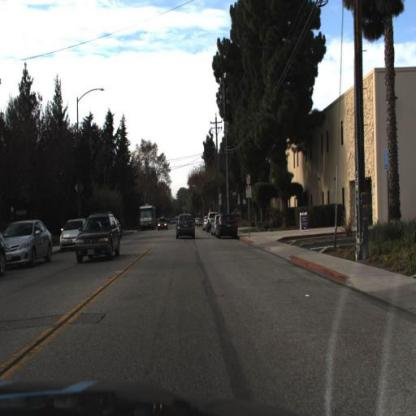car: (1, 220, 55, 267), (74, 215, 124, 262), (215, 213, 240, 241), (177, 214, 198, 241)
truck: (139, 205, 159, 234)
